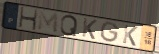G: (100, 21, 121, 44)
H: (18, 6, 39, 32)
K: (121, 23, 139, 47), (81, 17, 98, 41)
M: (37, 10, 59, 35)
Q: (60, 15, 79, 38)
